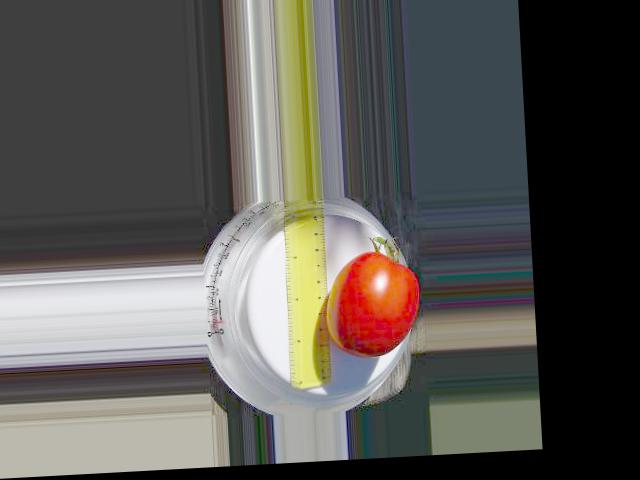tomato: (321, 248, 423, 359)
